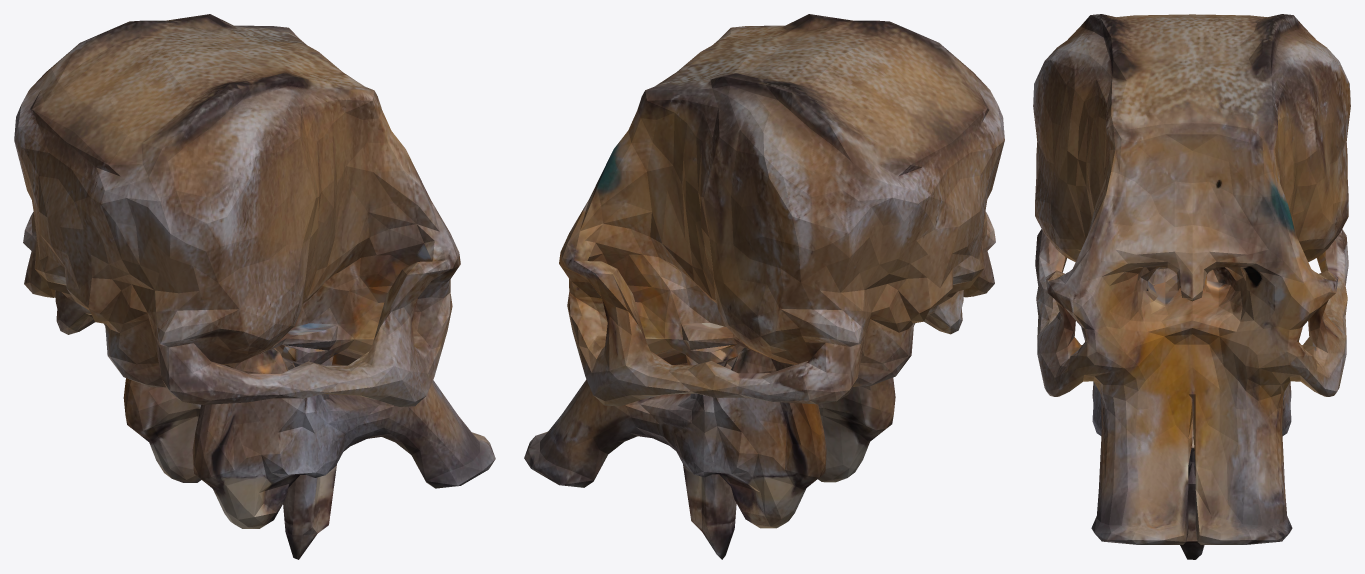
File: elephant_fossils_001.glb
The picture shows the model from 3 angles, left to right: view 1: azimuth 30°, elevation 25°; view 2: azimuth 150°, elevation 25°; view 3: azimuth 270°, elevation 25°; orthographic projection. The views are drawn at different scales.
Parts seen in each view (by area): view 1: tripo_node_a4732e9a-6f68-4df9-83a0-43c5b40aa9a1; view 2: tripo_node_a4732e9a-6f68-4df9-83a0-43c5b40aa9a1; view 3: tripo_node_a4732e9a-6f68-4df9-83a0-43c5b40aa9a1.
Boxes of the visible parts, x1=… form: tripo_node_a4732e9a-6f68-4df9-83a0-43c5b40aa9a1: x1=14, y1=14, x2=495, y2=559; tripo_node_a4732e9a-6f68-4df9-83a0-43c5b40aa9a1: x1=524, y1=14, x2=1004, y2=559; tripo_node_a4732e9a-6f68-4df9-83a0-43c5b40aa9a1: x1=1033, y1=14, x2=1350, y2=559.
Bounding box in the file's own units: 0.7634 × 0.95 × 0.5583.
1 material, 1 textured.
